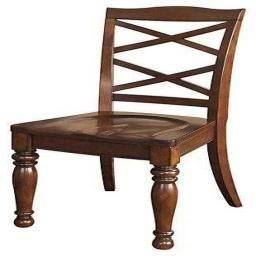Chair: (10, 5, 246, 248)
